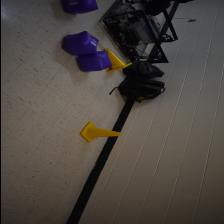cone: (78, 122, 120, 142), (103, 48, 131, 72)
cube: (62, 31, 98, 56), (76, 51, 112, 72), (62, 0, 98, 14)
